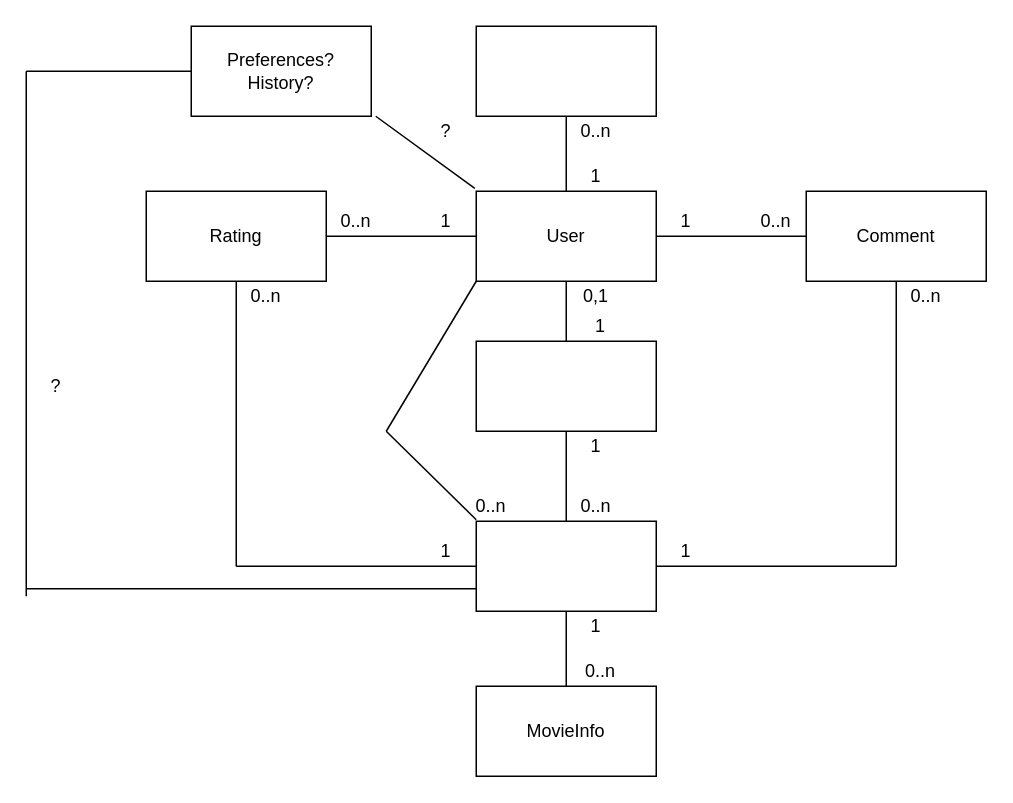
Image size: 1013x803. Some labels were removed from this diagram. The box of each missing label's shape, as (x1, y1, x2, y2) in pixels:
App/watchr: (475, 340, 656, 431)
Movie: (475, 520, 656, 611)
PersonalData: (475, 25, 656, 116)
